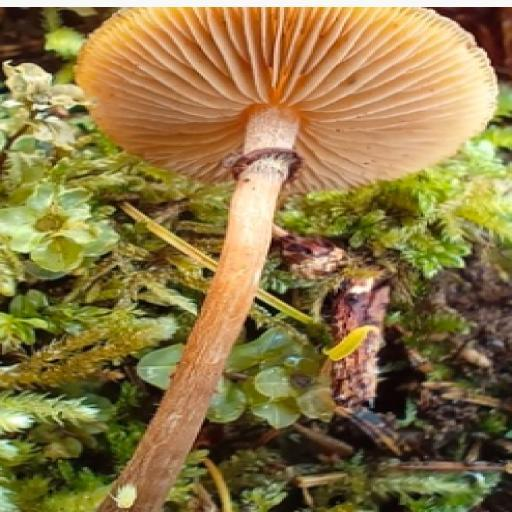mushroom: (80, 7, 500, 459)
